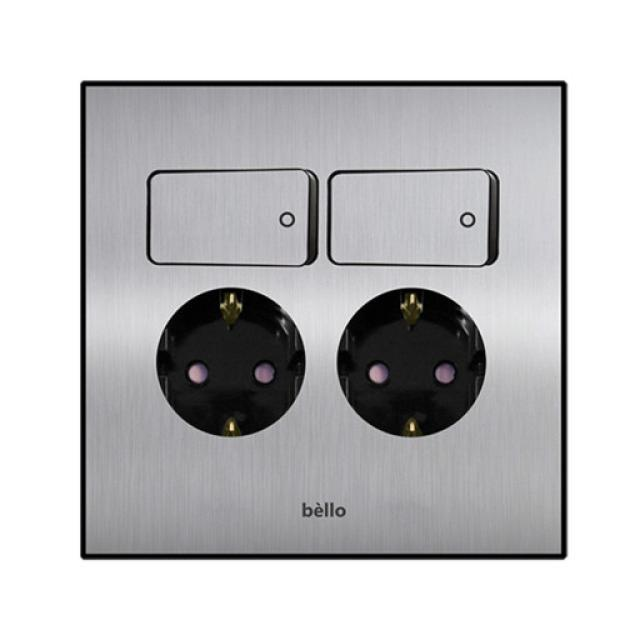typeb: (38, 42, 598, 604)
